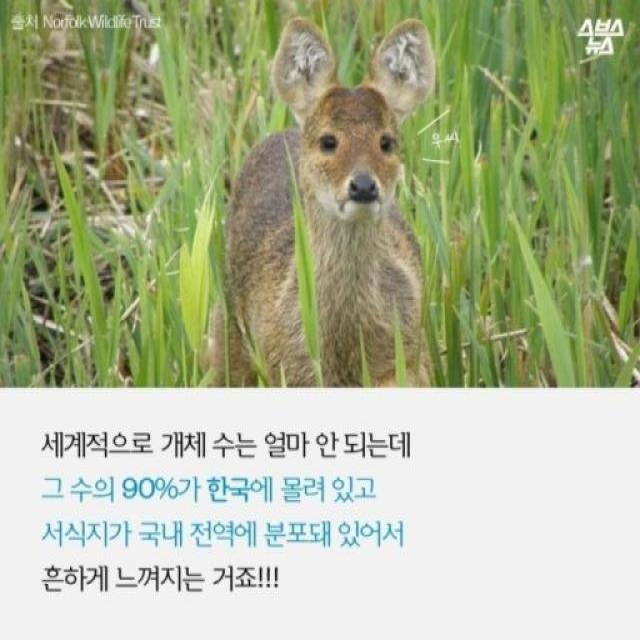deer: (208, 9, 460, 386)
